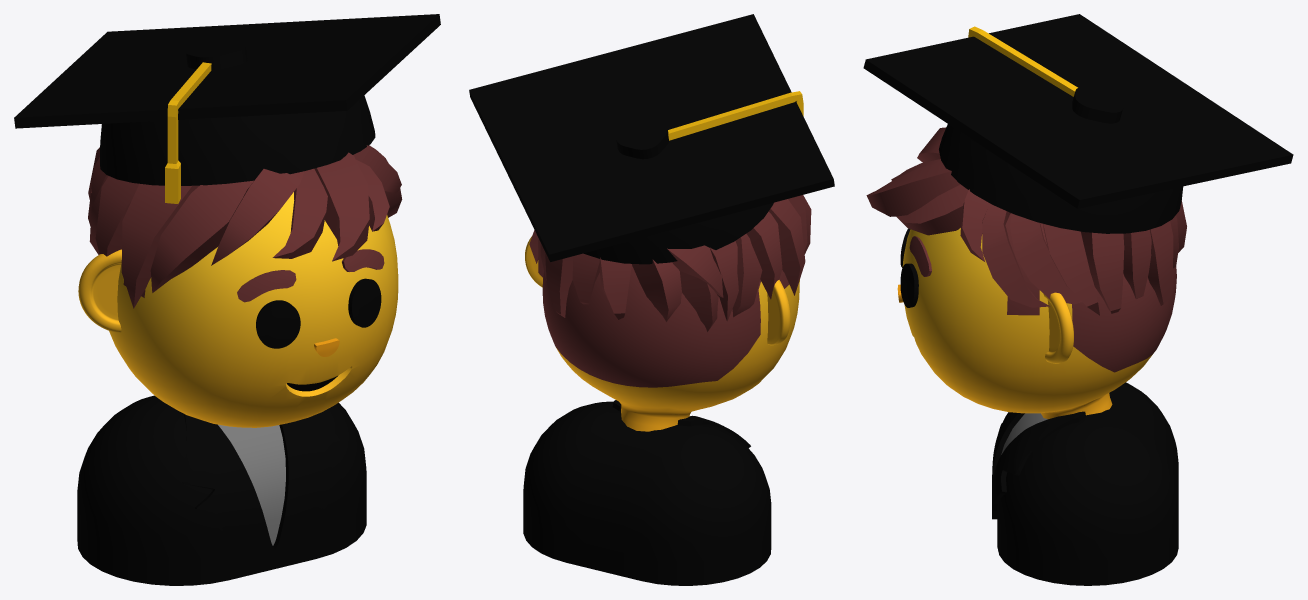
Rendered from student.glb.
3 views of the same model, side by side, from view 1: azimuth 30°, elevation 25°; view 2: azimuth 150°, elevation 25°; view 3: azimuth 270°, elevation 25° (orthographic). The views are drawn at different scales.
Visible parts, largest first — view 1: Circle.553, Roundcube.077, Sphere.037, Cube.912, Circle.552, Circle.549, Cylinder.070, Plane.030, Circle.551; view 2: Circle.553, Sphere.037, Roundcube.077, Cube.912, Cylinder.070, Plane.030, Circle.552; view 3: Circle.553, Sphere.037, Roundcube.077, Cube.912, Circle.552, Cylinder.070, Plane.030, Circle.549.
Part boxes in pixels (<box>): Circle.553: <box>14,14,440,185</box>; Roundcube.077: <box>109,192,398,427</box>; Sphere.037: <box>77,395,366,585</box>; Cube.912: <box>88,145,402,308</box>; Circle.552: <box>182,414,343,557</box>; Circle.549: <box>256,278,381,348</box>; Cylinder.070: <box>78,249,121,332</box>; Plane.030: <box>165,62,211,203</box>; Circle.551: <box>237,249,384,302</box>; Circle.553: <box>469,14,834,264</box>; Sphere.037: <box>523,401,771,585</box>; Roundcube.077: <box>542,265,799,431</box>; Cube.912: <box>529,195,811,331</box>; Cylinder.070: <box>525,236,790,345</box>; Plane.030: <box>668,91,803,140</box>; Circle.552: <box>612,400,750,448</box>; Circle.553: <box>863,14,1293,233</box>; Sphere.037: <box>997,382,1178,585</box>; Roundcube.077: <box>902,213,1176,419</box>; Cube.912: <box>866,127,1186,315</box>; Circle.552: <box>992,411,1085,519</box>; Cylinder.070: <box>1043,292,1073,363</box>; Plane.030: <box>968,26,1077,96</box>; Circle.549: <box>900,228,918,307</box>.
Size of the model in its own units: 2.07 by 2.43 by 2.02.
1 material, 1 textured.
